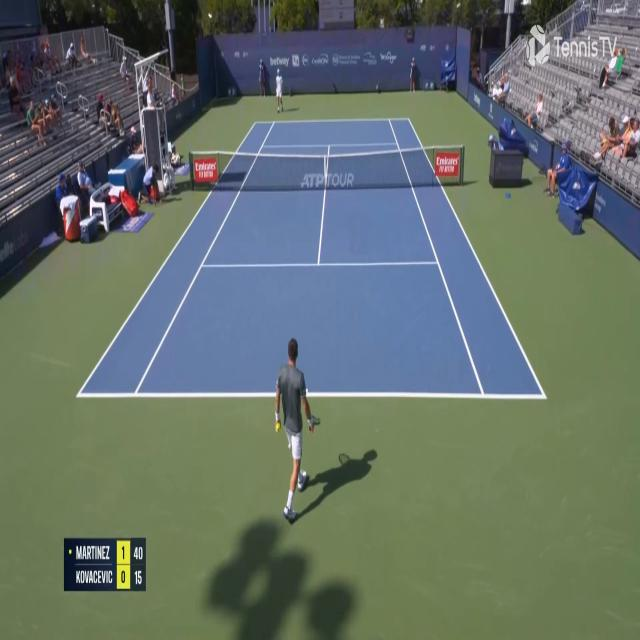tennis-player: (273, 332, 322, 524), (274, 67, 285, 114)
